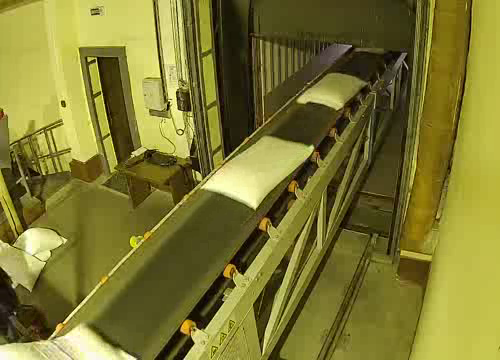bag: (190, 122, 322, 217), (0, 304, 147, 360), (289, 66, 374, 112), (351, 42, 389, 55)
